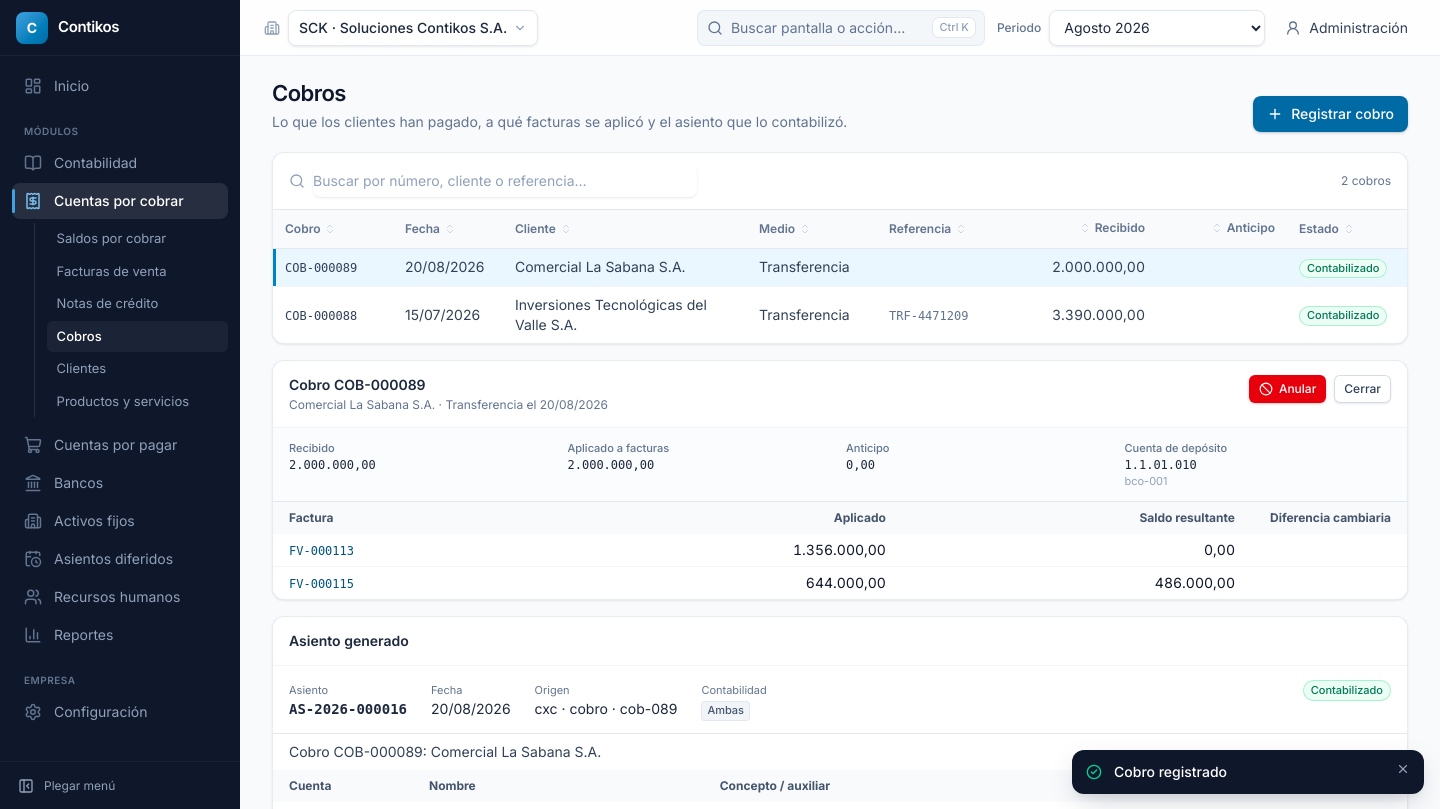
Test: Cobro de cuentas por cobrar › la anulación devuelve el saldo y reversa el asiento
Click the button "Anular". click: point(1288, 389)
box: [1249,375,1326,403]
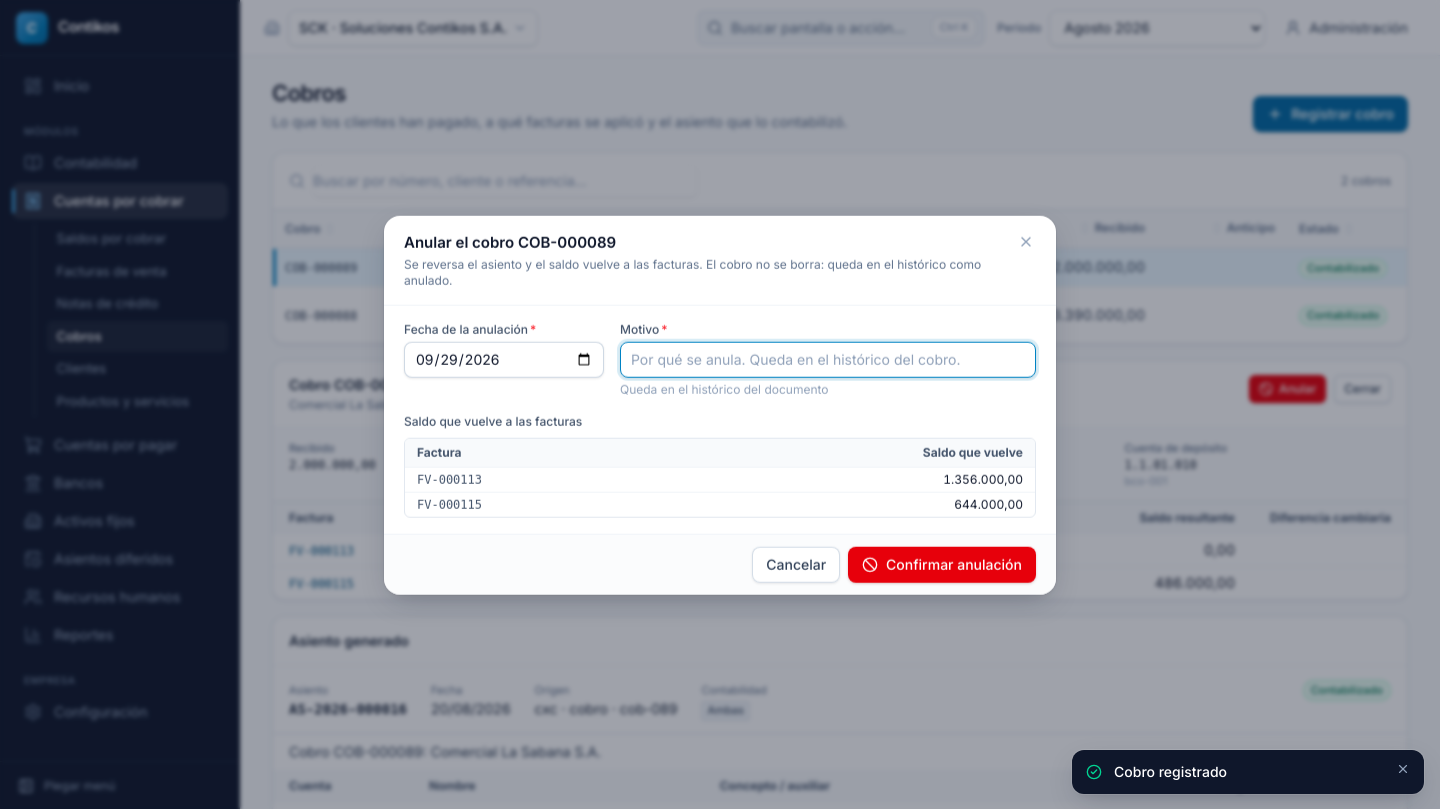
Type "2026-09-15" into the date field labelled "Fecha de la anulación*". click: point(504, 359)
box: [404,341,604,377]
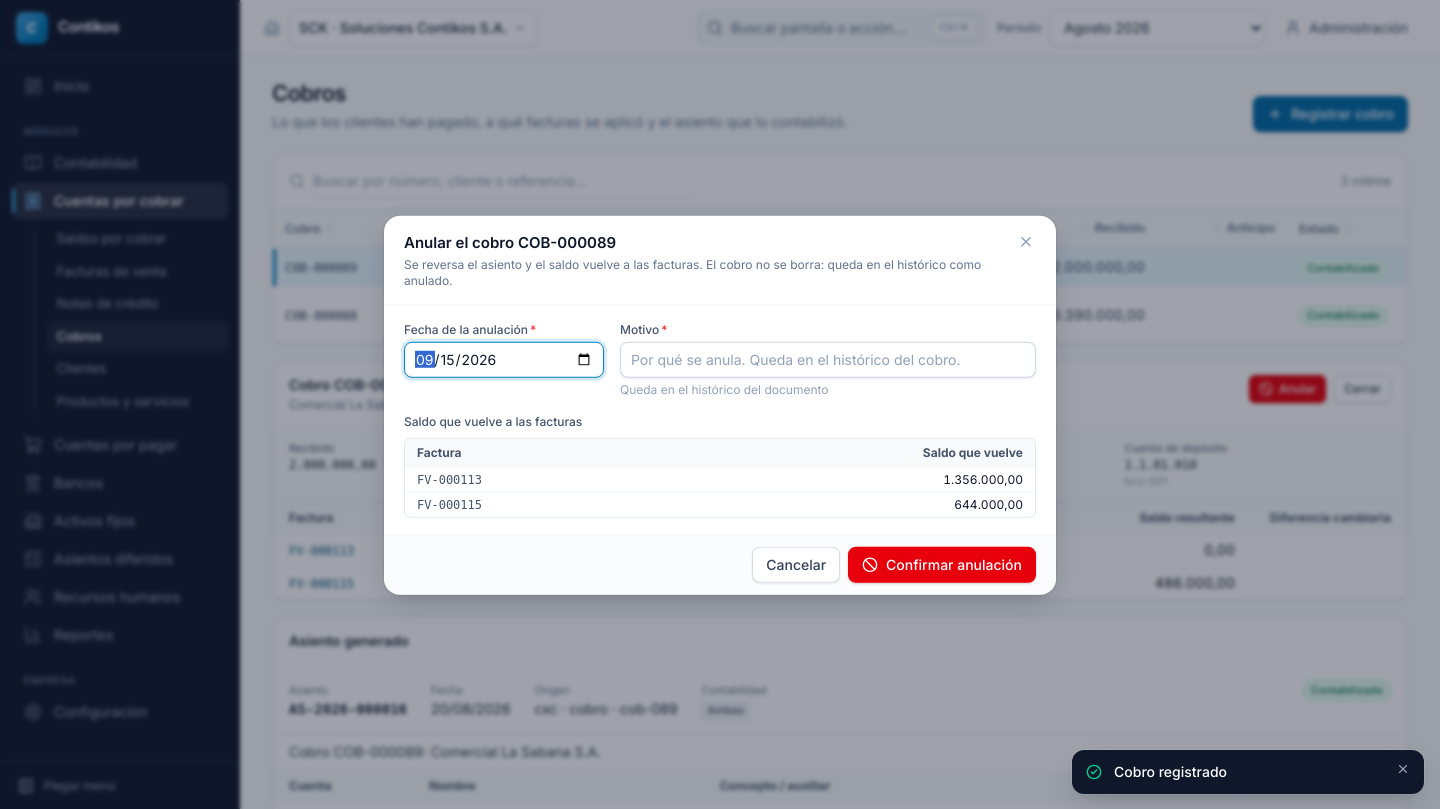
Type "La transferencia fue rechazada" into the field labelled "Motivo*". click: point(828, 359)
box: [620,341,1036,377]
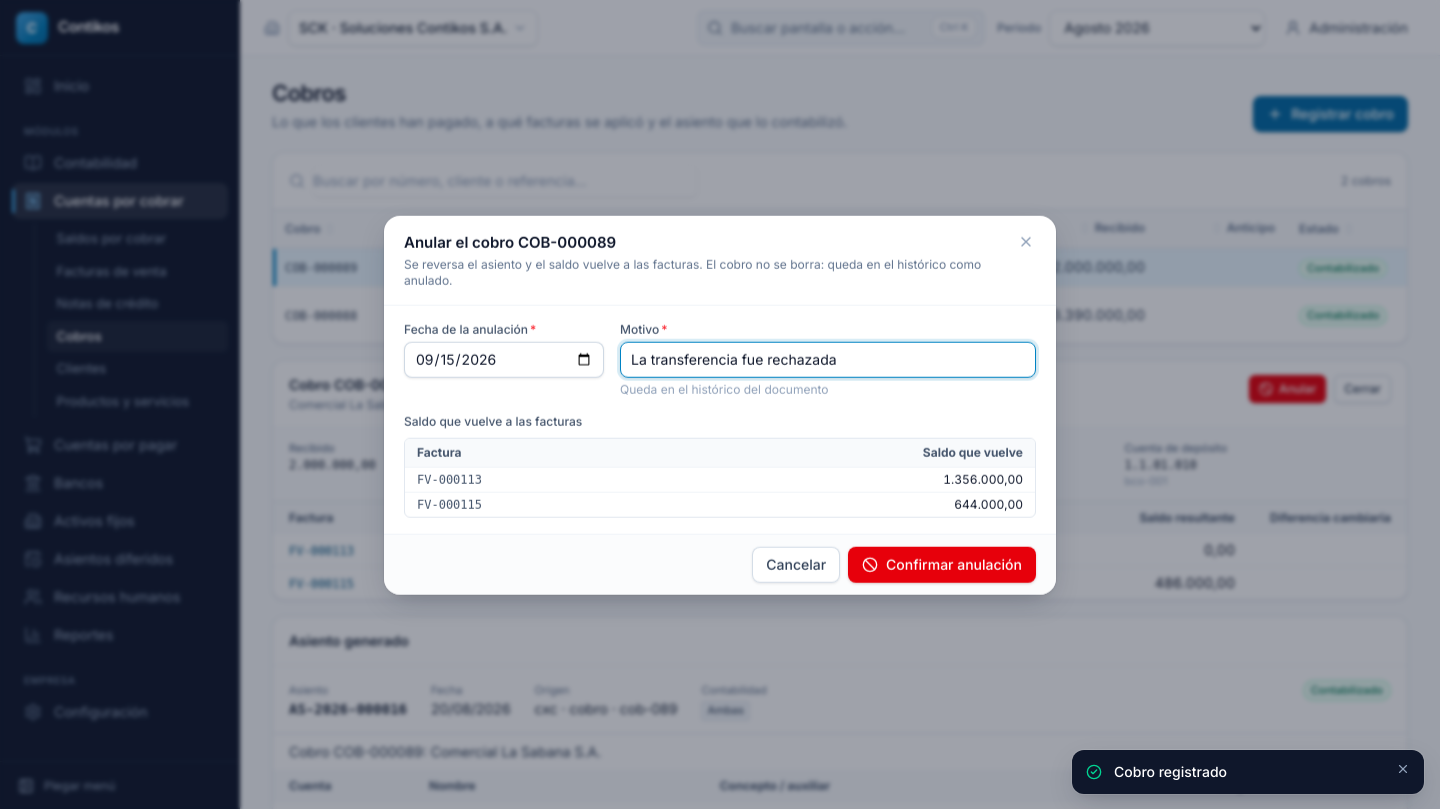
Click the button "Confirmar anulación". click: point(942, 564)
box: [848,546,1036,582]
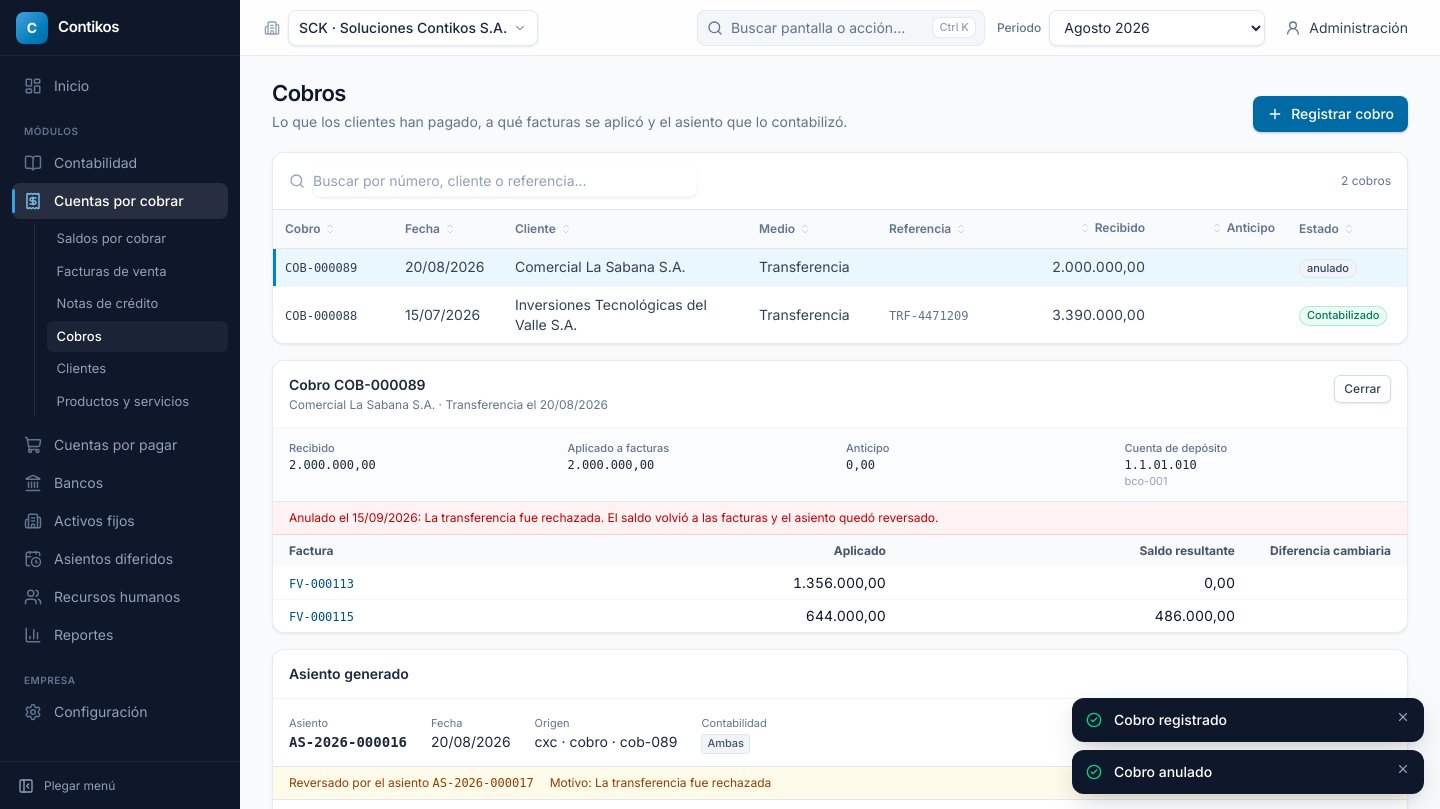
Expected: the text "anulado" is shown, [1299,258,1357,278]
